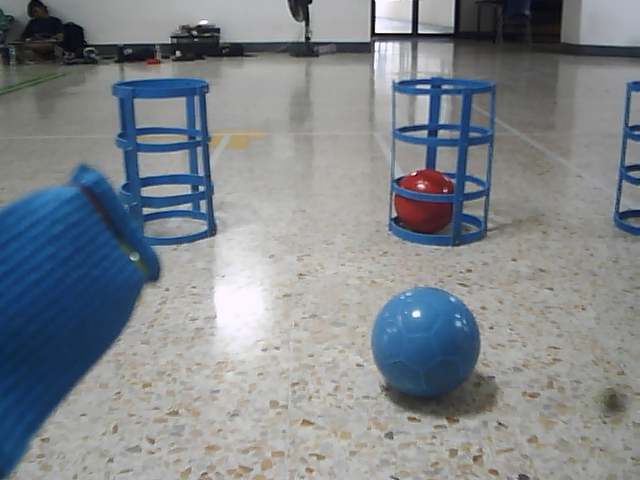Blue ball: (370, 284, 482, 397)
Cyro: (385, 73, 498, 249), (109, 77, 220, 247), (610, 77, 640, 236)
Red ball: (395, 169, 456, 234)
